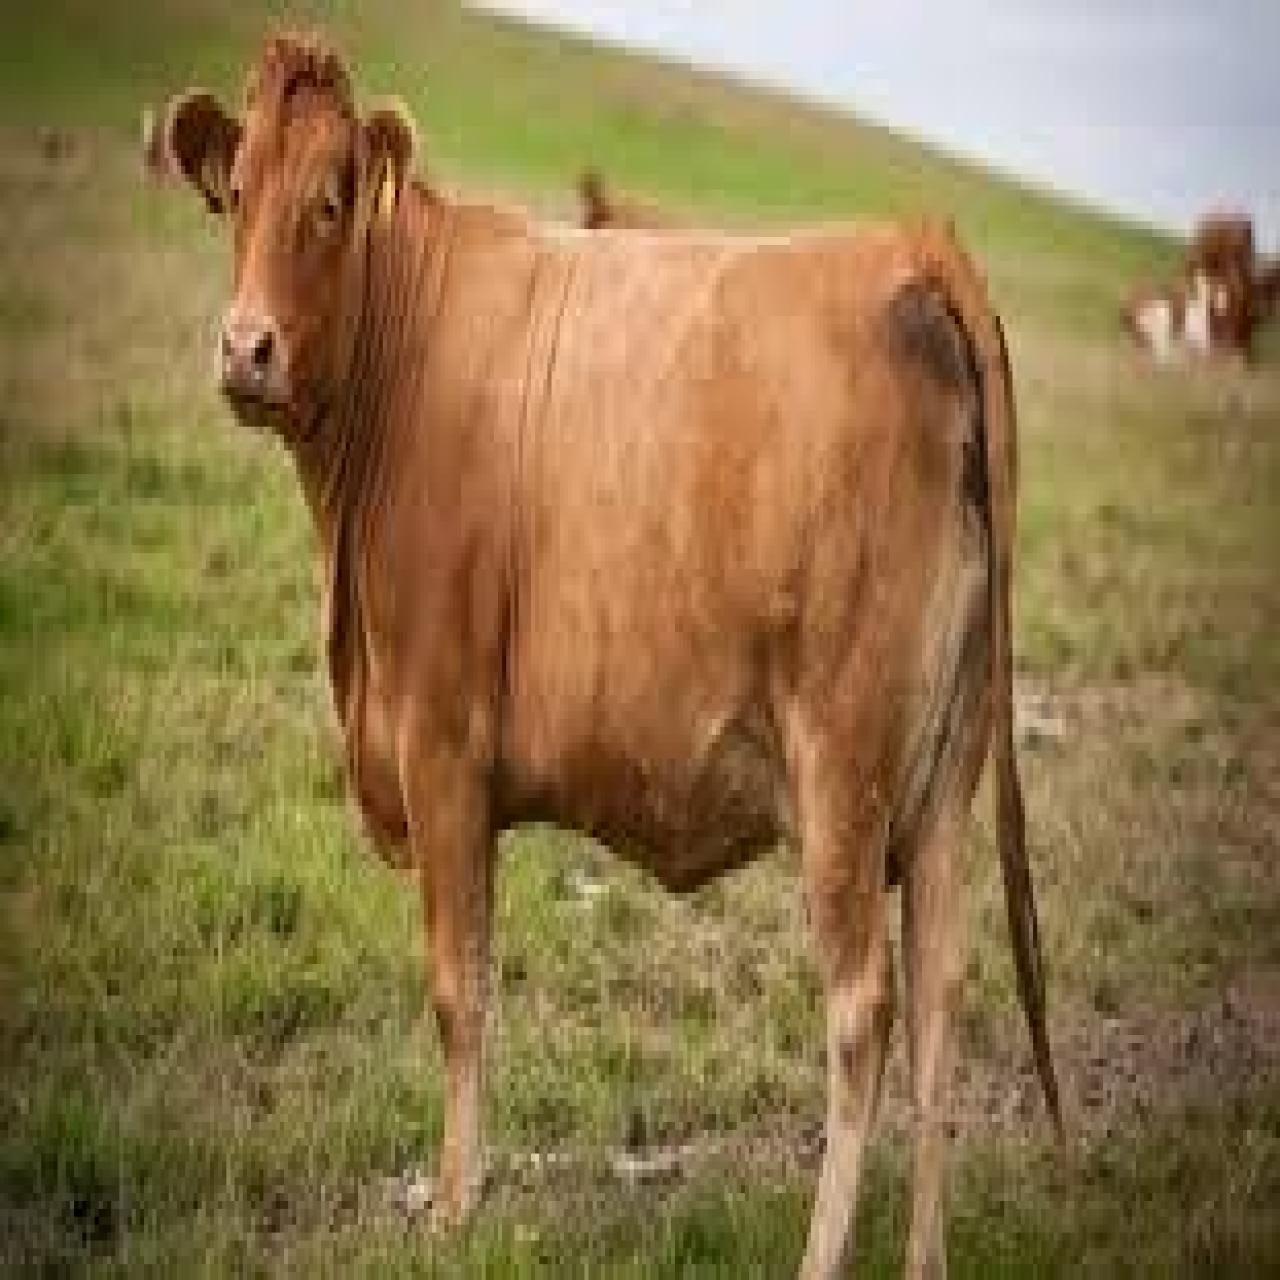cow: (175, 28, 1060, 1276), (1115, 248, 1234, 367)
